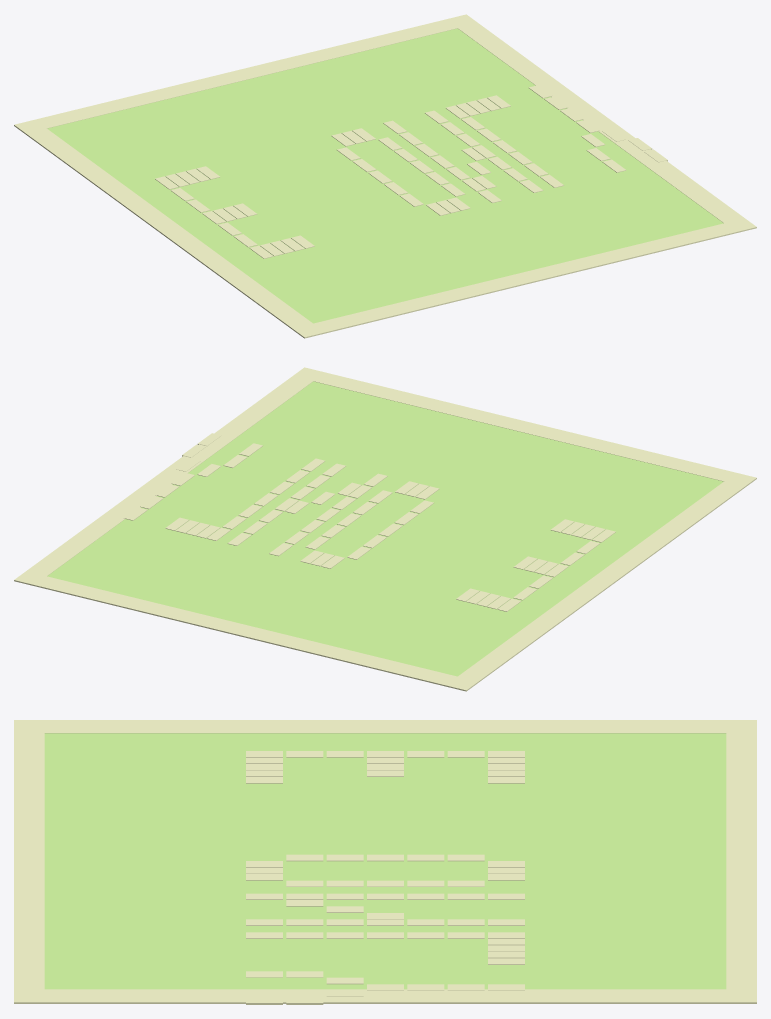
File: marking_ev_only_box_green.glb
3 renders of one model, top to bottom at view 1: azimuth 30°, elevation 25°; view 2: azimuth 150°, elevation 25°; view 3: azimuth 270°, elevation 25°, orthographic. The views are drawn at different scales.
Visible parts, largest first — view 1: ev_only_box_fill, ev_only_box_bottom, ev_only_box_left, ev_only_box_top, ev_only_box_right; view 2: ev_only_box_fill, ev_only_box_top, ev_only_box_left, ev_only_box_bottom, ev_only_box_right; view 3: ev_only_box_fill, ev_only_box_left, ev_only_box_right, ev_only_box_top, ev_only_box_bottom.
Part boxes in pixels (box(x1,y1,x2,y2)): ev_only_box_fill: box(47, 28, 723, 323); ev_only_box_bottom: box(292, 218, 756, 338); ev_only_box_left: box(26, 128, 312, 329); ev_only_box_top: box(14, 14, 477, 134); ev_only_box_right: box(458, 23, 744, 223); ev_only_box_fill: box(47, 381, 723, 676); ev_only_box_top: box(14, 571, 478, 691); ev_only_box_left: box(458, 481, 744, 682); ev_only_box_bottom: box(293, 367, 756, 487); ev_only_box_right: box(26, 376, 312, 576); ev_only_box_fill: box(44, 733, 726, 989); ev_only_box_left: box(44, 720, 726, 733); ev_only_box_right: box(44, 989, 726, 1003); ev_only_box_top: box(726, 720, 756, 1003); ev_only_box_bottom: box(14, 720, 44, 1003).
Bounding box in the file's own units: 1.97 × 0.006 × 2.18.
